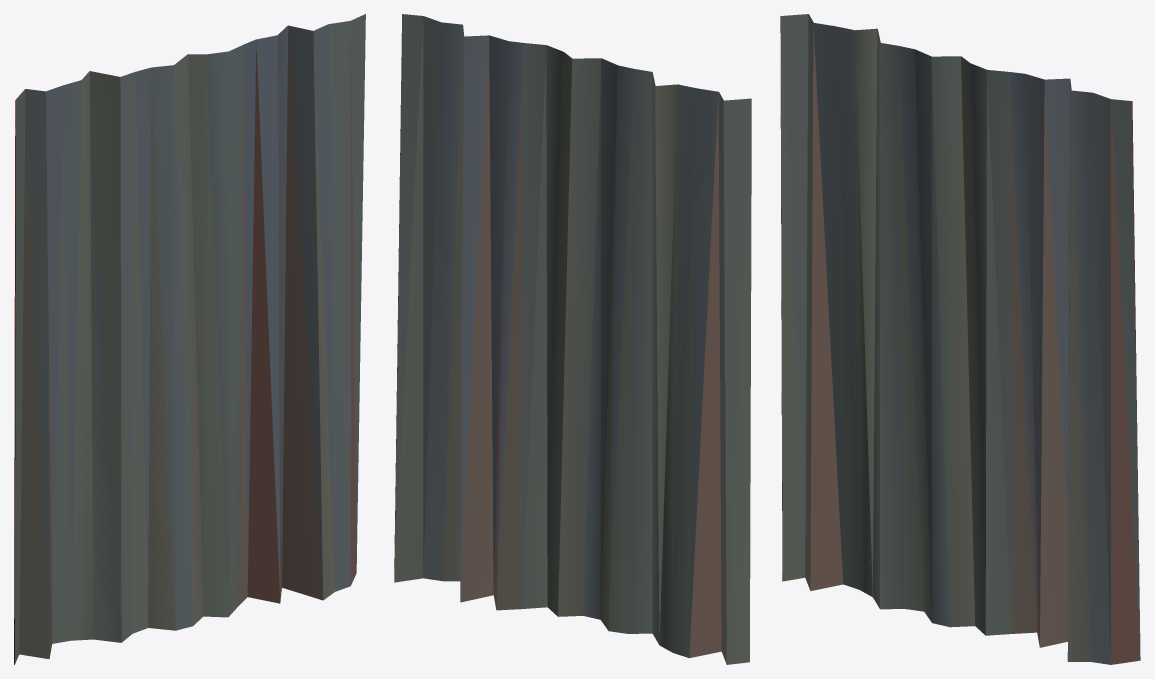
File: curtain1a.FBX
The picture shows the model from 3 angles, left to right: view 1: azimuth 30°, elevation 25°; view 2: azimuth 150°, elevation 25°; view 3: azimuth 330°, elevation 25°; orthographic projection.
Visible parts, largest first — view 1: curtain1a; view 2: curtain1a; view 3: curtain1a.
Boxes of the visible parts, bbox=[...] form: curtain1a: bbox=[14, 14, 365, 664]; curtain1a: bbox=[394, 14, 751, 664]; curtain1a: bbox=[780, 14, 1140, 664].
Bounding box in the file's own units: 162 × 249 × 19.07.
